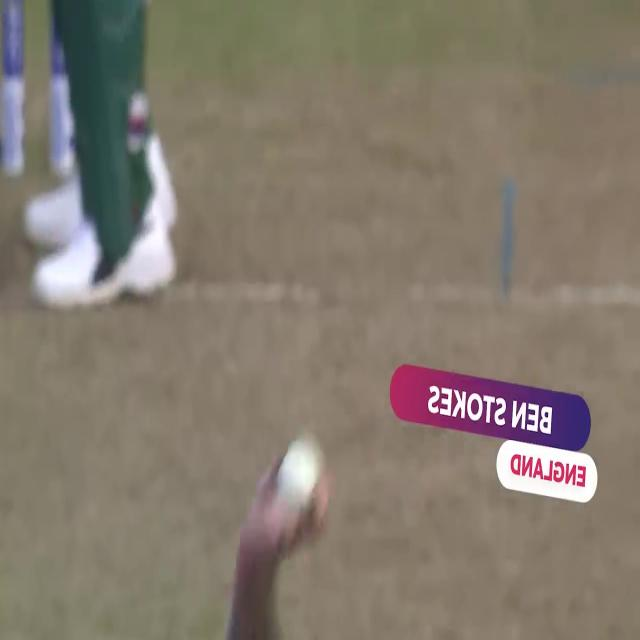ball: (276, 415, 326, 515)
